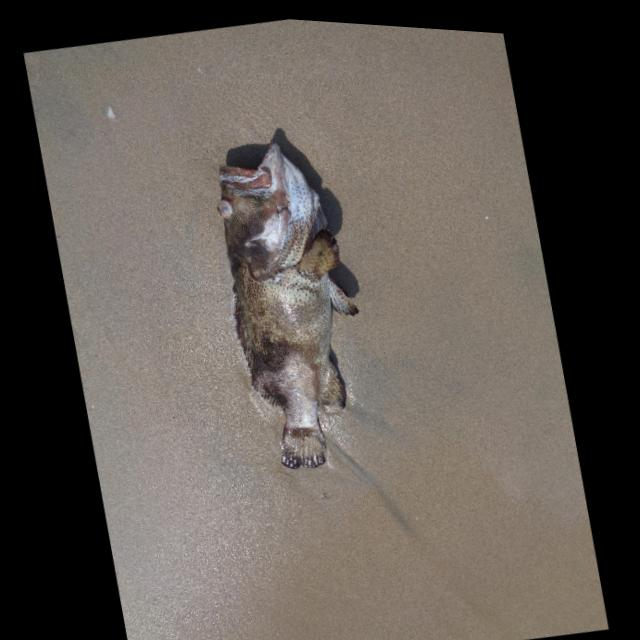Groupers: (197, 125, 386, 482)
